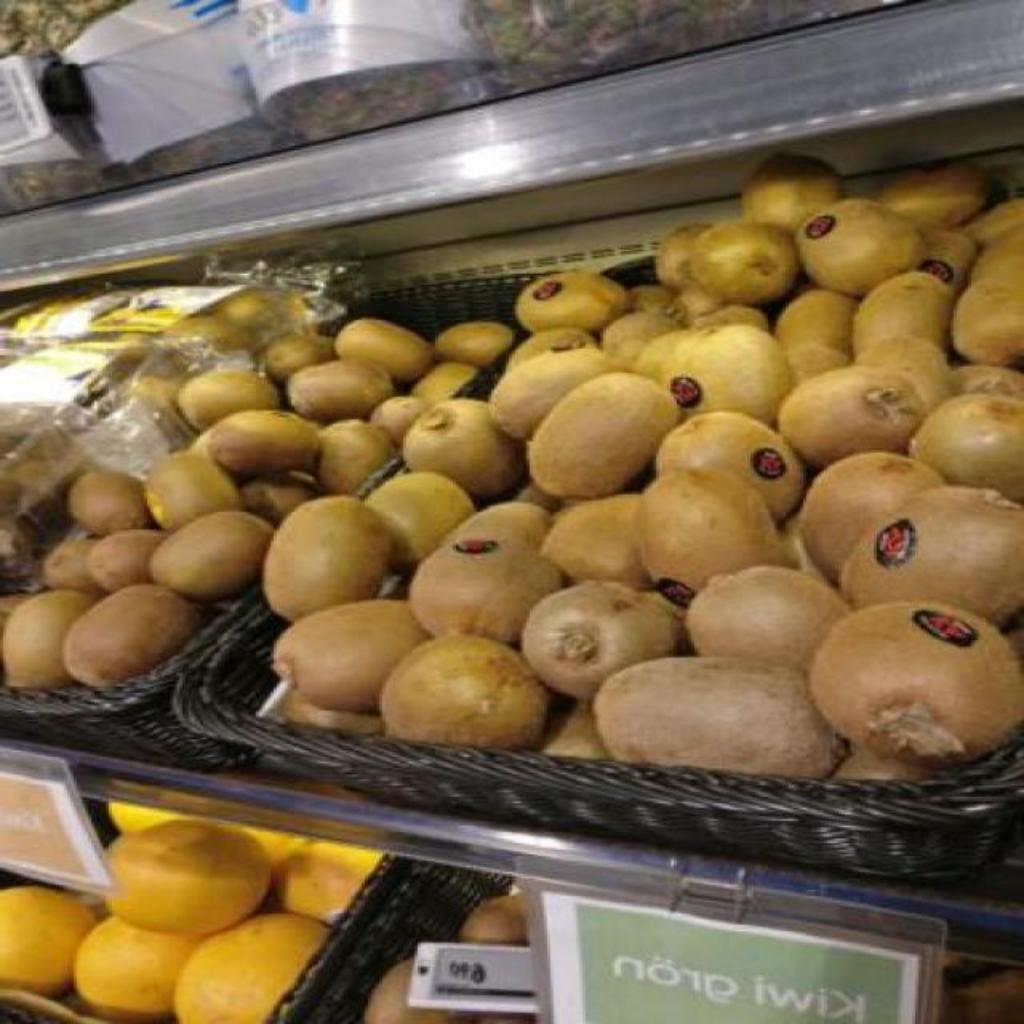kiwi: (811, 602, 1024, 767), (592, 656, 843, 776), (843, 488, 1024, 625), (643, 470, 789, 603), (523, 580, 680, 698), (528, 376, 680, 497), (800, 452, 944, 579), (384, 636, 547, 747), (685, 566, 851, 671), (275, 600, 429, 711), (411, 538, 563, 643), (656, 412, 805, 519), (264, 496, 389, 621), (779, 370, 925, 467), (64, 586, 200, 687), (661, 324, 795, 423), (795, 198, 925, 295), (909, 394, 1024, 501), (488, 348, 619, 439), (403, 398, 523, 496), (152, 510, 275, 601), (541, 495, 651, 589), (363, 474, 475, 563), (5, 592, 96, 689), (691, 222, 795, 305), (853, 270, 955, 351), (144, 452, 243, 529), (741, 154, 840, 230), (856, 338, 955, 411), (880, 162, 987, 228), (211, 410, 317, 475), (291, 358, 395, 421), (515, 272, 624, 332), (336, 318, 435, 383), (952, 280, 1024, 366), (176, 368, 276, 429), (773, 289, 856, 356), (320, 420, 395, 494), (443, 502, 552, 549), (69, 472, 152, 533), (85, 530, 164, 591), (283, 688, 381, 736), (603, 312, 680, 367), (541, 700, 611, 759), (243, 474, 317, 525), (507, 328, 597, 369), (920, 228, 979, 290), (435, 322, 515, 367), (835, 744, 933, 780), (43, 538, 104, 595), (656, 224, 711, 287), (264, 334, 336, 381), (368, 396, 432, 445), (971, 224, 1024, 283), (632, 330, 692, 379), (963, 198, 1024, 246), (411, 362, 477, 403), (793, 340, 851, 383), (952, 364, 1021, 399), (691, 304, 765, 331), (675, 284, 723, 323), (512, 482, 560, 511), (629, 284, 675, 314)
